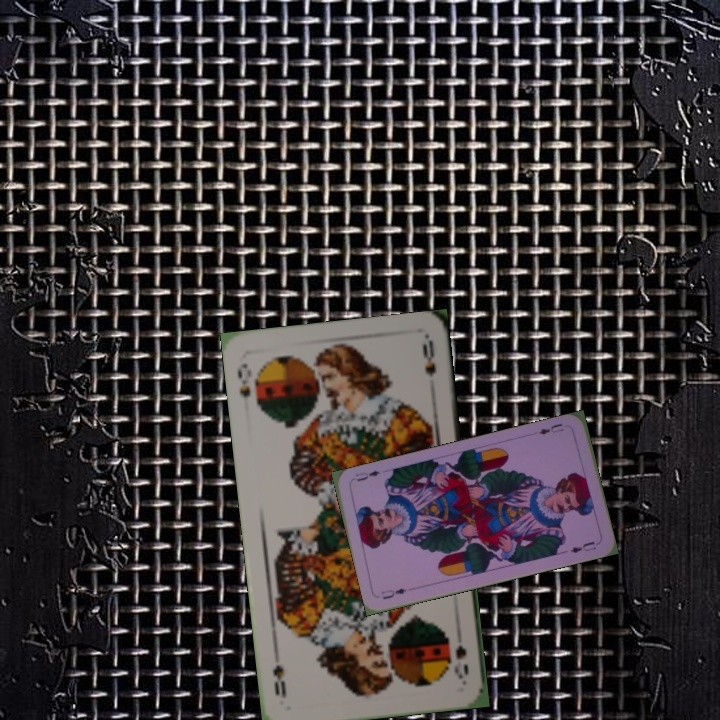EU: (377, 584, 409, 602), (535, 419, 566, 437)
SO: (450, 641, 471, 681), (233, 359, 253, 401)
